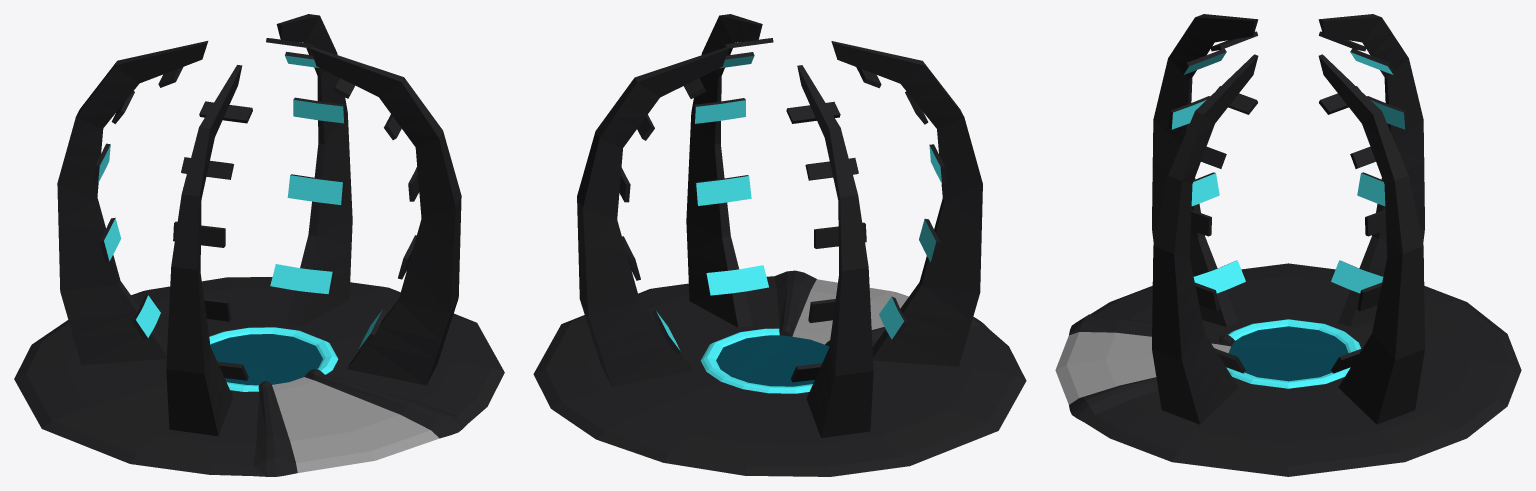
Rendered from Teletrasporto.fbx.
The picture shows the model from 3 angles, left to right: view 1: azimuth 30°, elevation 25°; view 2: azimuth 150°, elevation 25°; view 3: azimuth 270°, elevation 25°; orthographic projection.
Visible parts, largest first — view 1: Teleportation Pad; view 2: Teleportation Pad; view 3: Teleportation Pad.
Part boxes in pixels (x1,y1,x2,y2): Teleportation Pad: (14, 14, 504, 476); Teleportation Pad: (533, 14, 1026, 476); Teleportation Pad: (1055, 14, 1521, 476).
Bounding box in the file's own units: 264 × 192 × 244.
